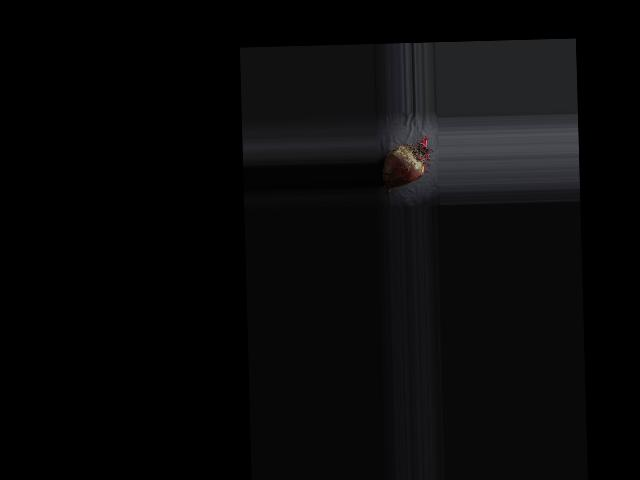beet: (381, 134, 433, 196)
